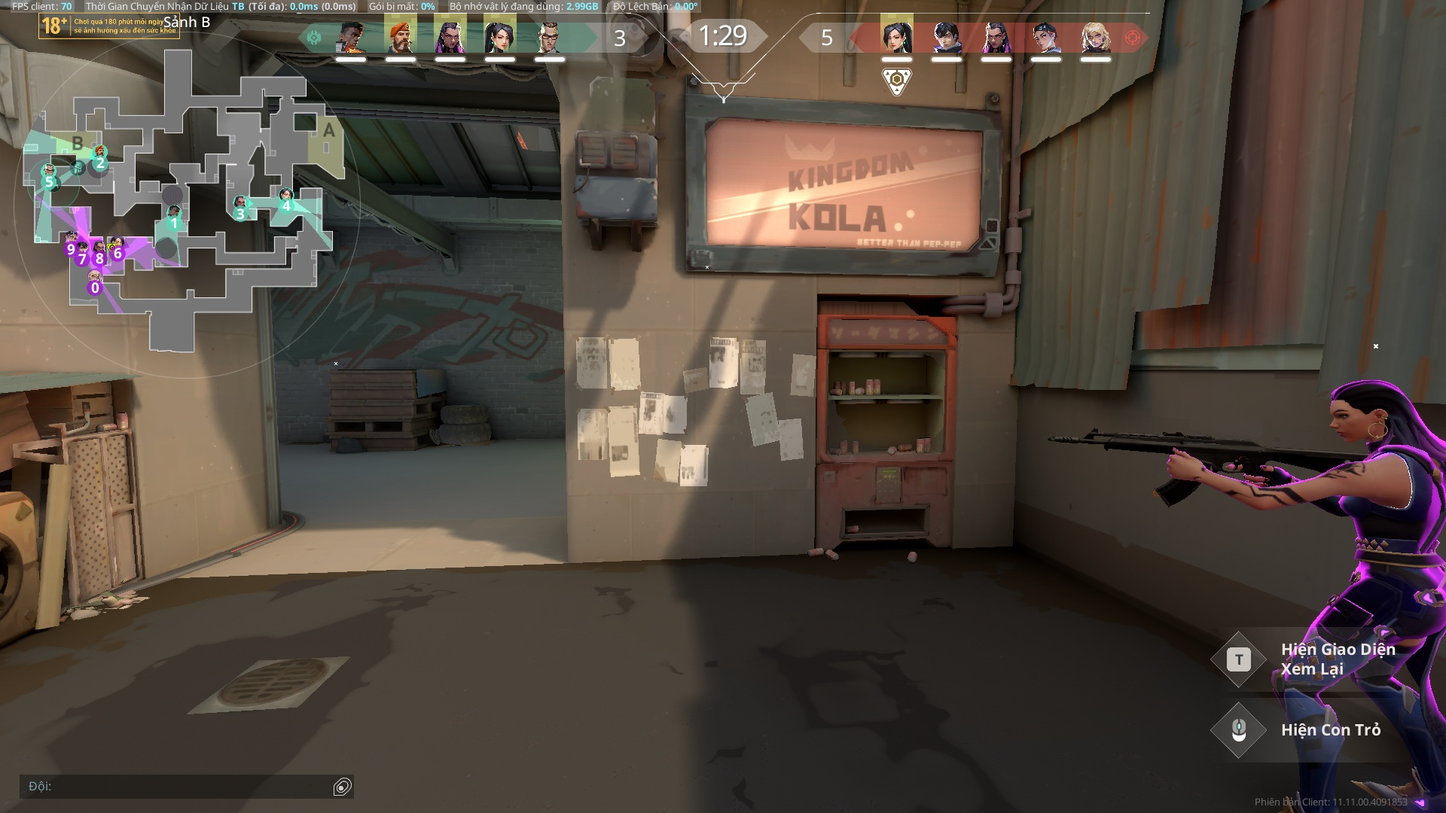body: (1336, 449, 1438, 571)
head: (1325, 380, 1408, 454)
